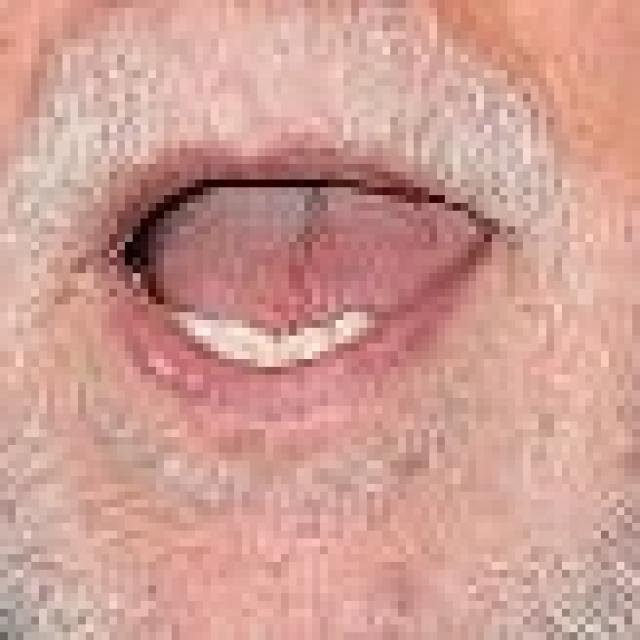open-mouth: (93, 140, 500, 398)
